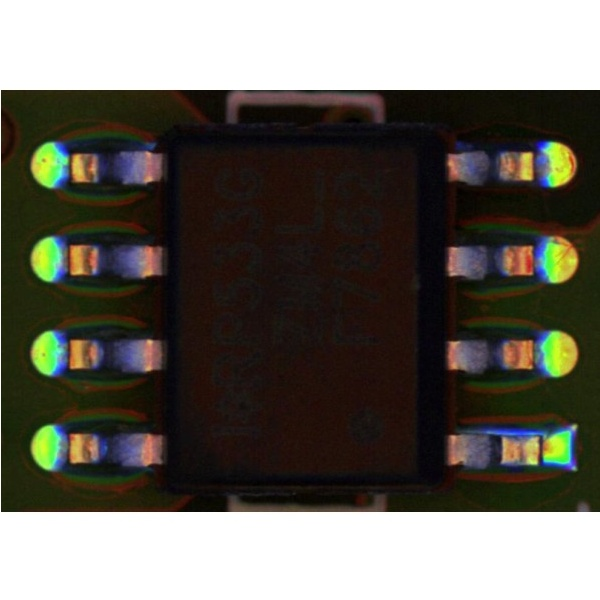Bad_podu: (526, 440, 552, 456)
